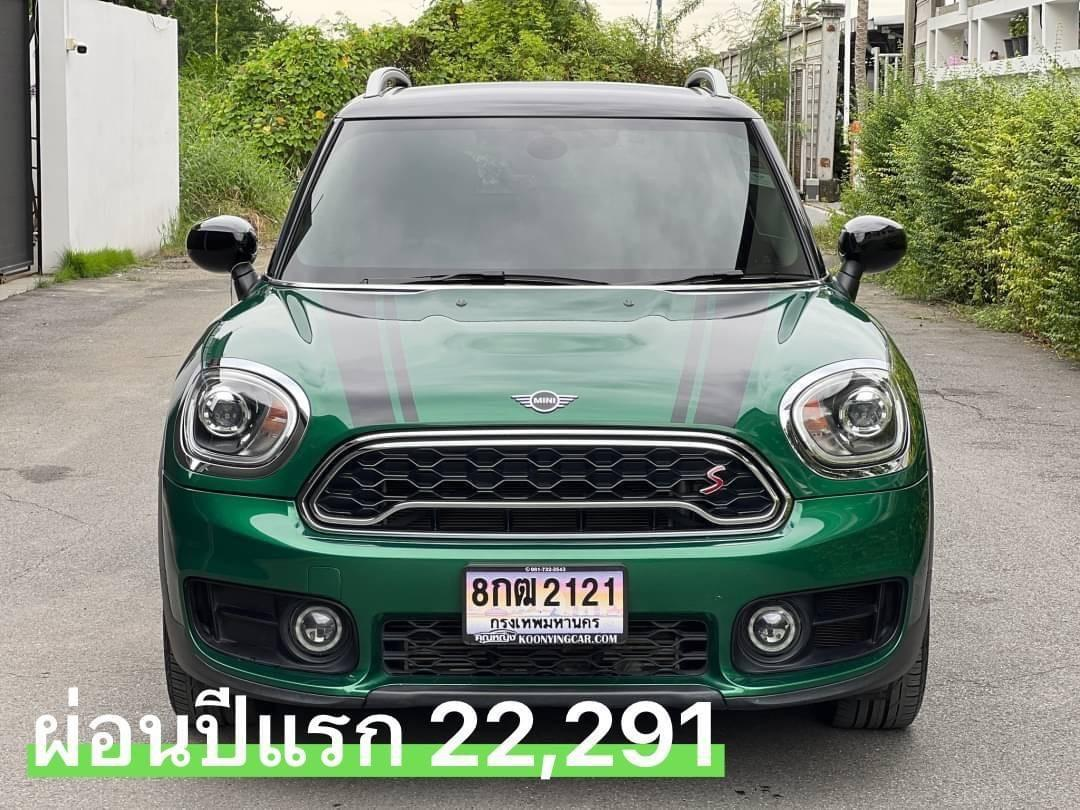license-plate: (462, 557, 627, 650)
